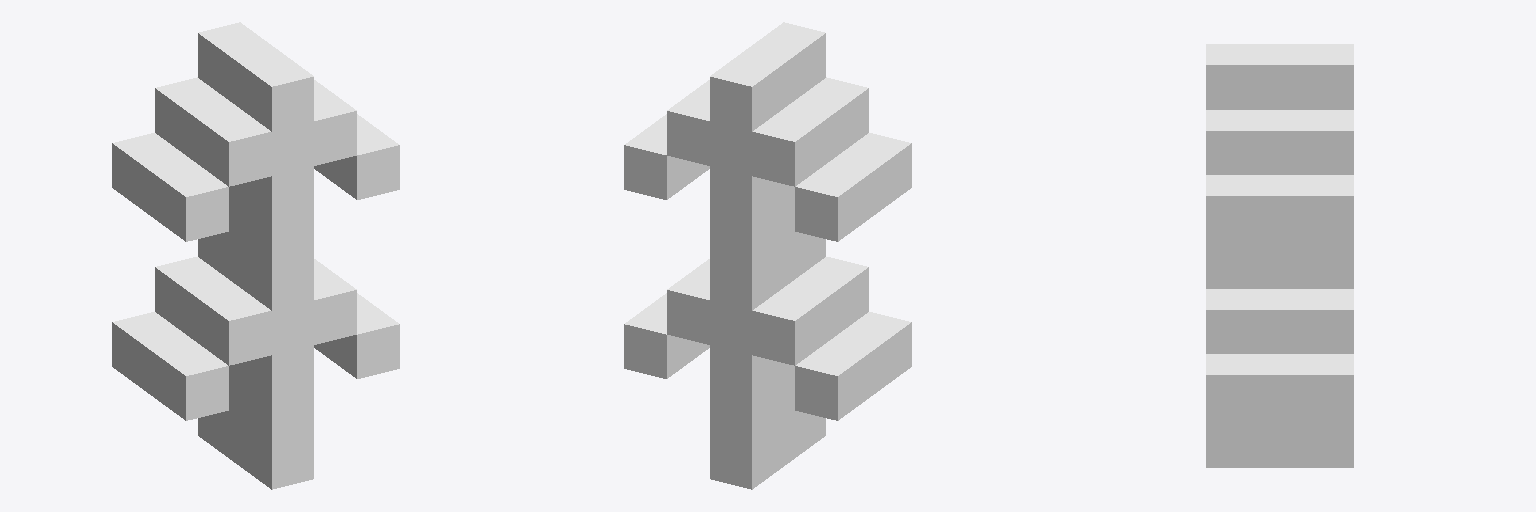
The model's file is DoubleJump.obj.
The picture shows the model from 3 angles: view 1: azimuth 30°, elevation 25°; view 2: azimuth 150°, elevation 25°; view 3: azimuth 270°, elevation 25°; orthographic projection.
Parts seen in each view (by area): view 1: DoubleJump; view 2: DoubleJump; view 3: DoubleJump.
Boxes of the visible parts, <box> form: DoubleJump: <box>112,22,399,489</box>; DoubleJump: <box>624,22,911,489</box>; DoubleJump: <box>1206,44,1353,467</box>.
Size of the model in its own units: 5 by 9 by 3.